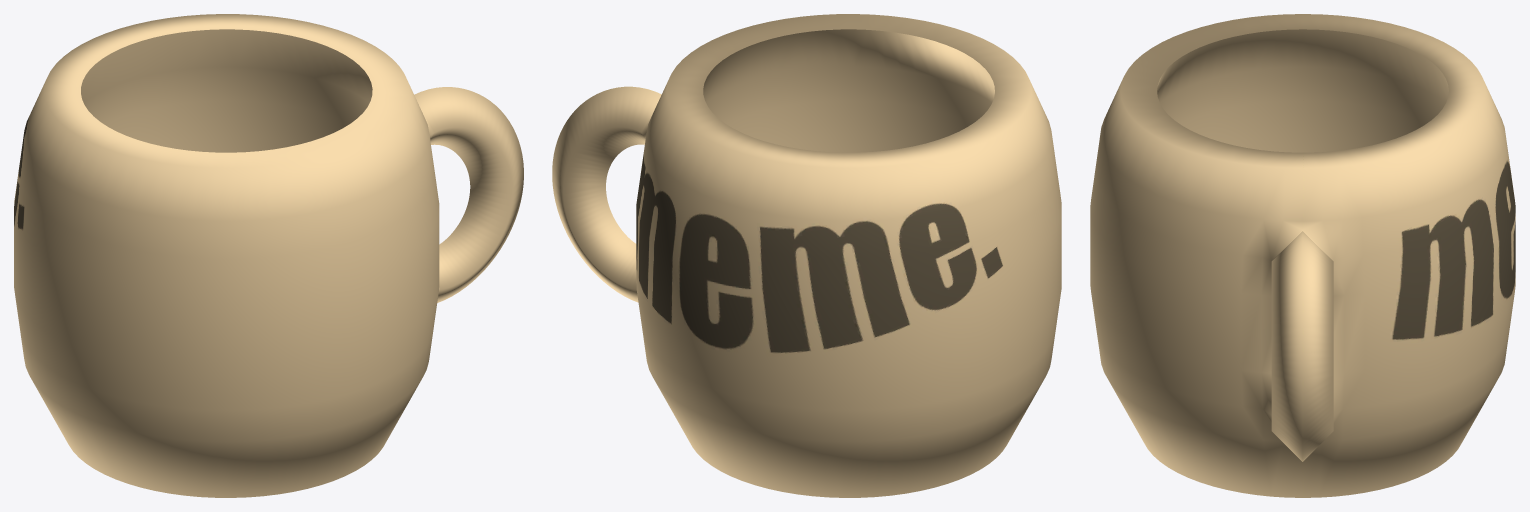
File: meme_mug.obj
The picture shows the model from 3 angles, left to right: view 1: azimuth 30°, elevation 25°; view 2: azimuth 150°, elevation 25°; view 3: azimuth 270°, elevation 25°; orthographic projection.
Parts seen in each view (by area): view 1: Cylinder; view 2: Cylinder; view 3: Cylinder.
Part boxes in pixels (<box>): Cylinder: <box>14,14,523,497</box>; Cylinder: <box>552,14,1061,497</box>; Cylinder: <box>1090,14,1515,497</box>.
Size of the model in its own units: 2.74 by 1.84 by 2.1.
